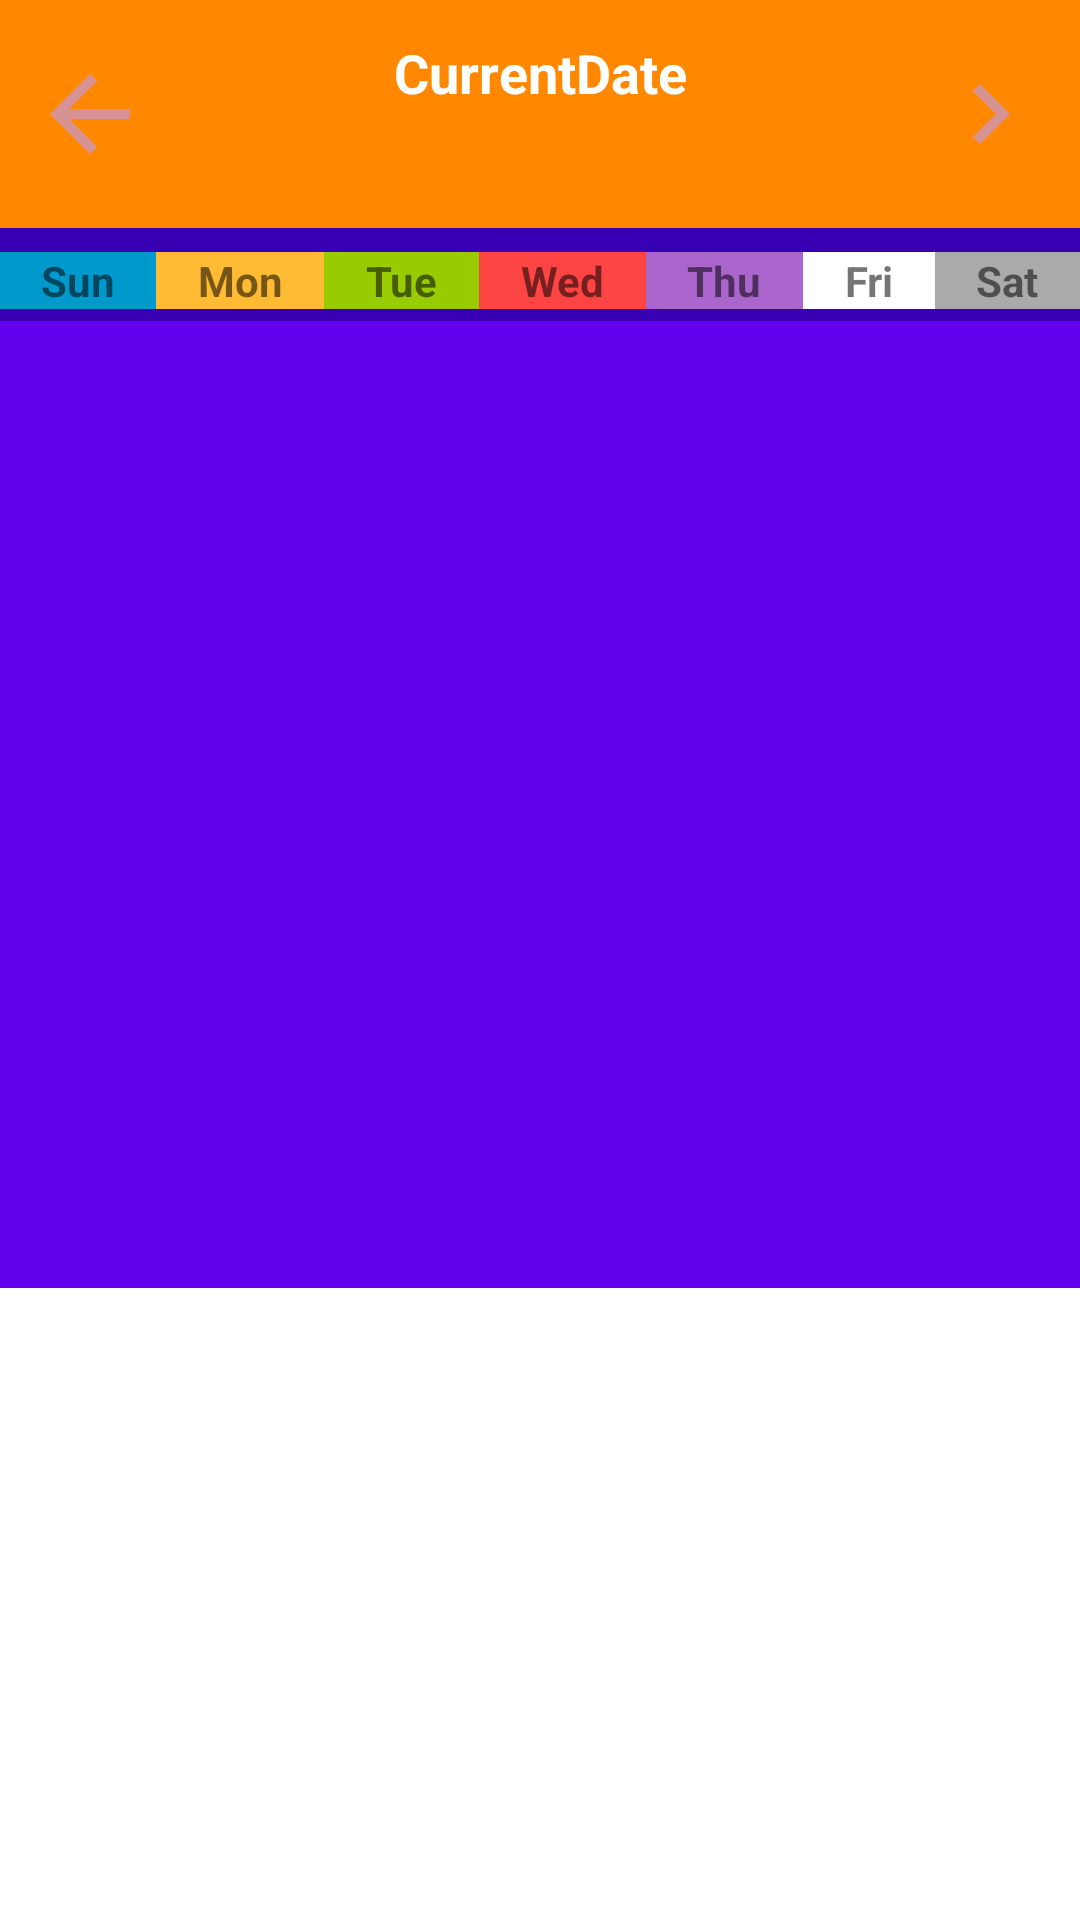

Icon bounding boxes for this 1080px×1920px phone screenshot, format (x1, y1, x2, y2):
back: (50, 74, 130, 154)
next: (973, 84, 1010, 144)
